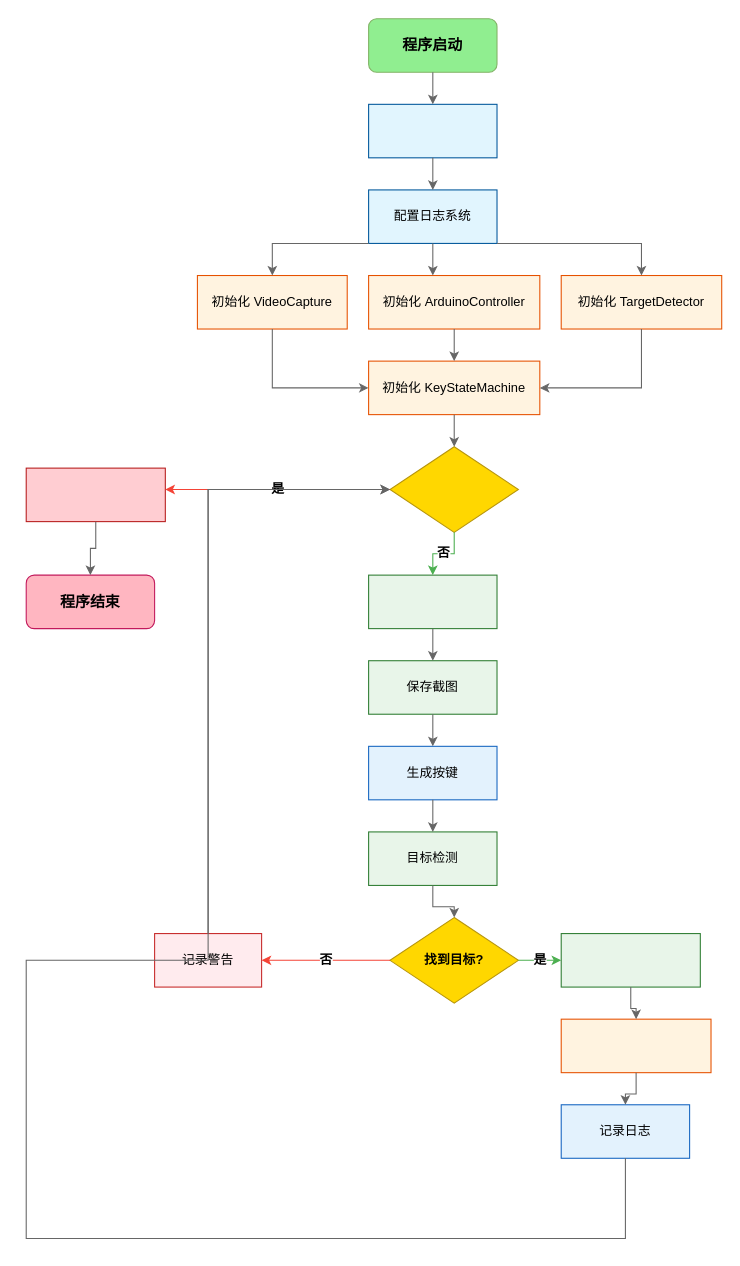
The diagram is 740 pixels wide and 1266 high, and some of its shapes have lost their labels. Each missing label, with the box of its shape:
加载配置 config.yaml: (368, 103, 497, 158)
发送指令到Arduino: (560, 1018, 711, 1073)
按 Esc 退出?: (389, 446, 518, 532)
捕获帧图像: (368, 574, 497, 629)
清理资源并退出: (25, 467, 165, 522)
计算方向与距离: (560, 933, 700, 987)
